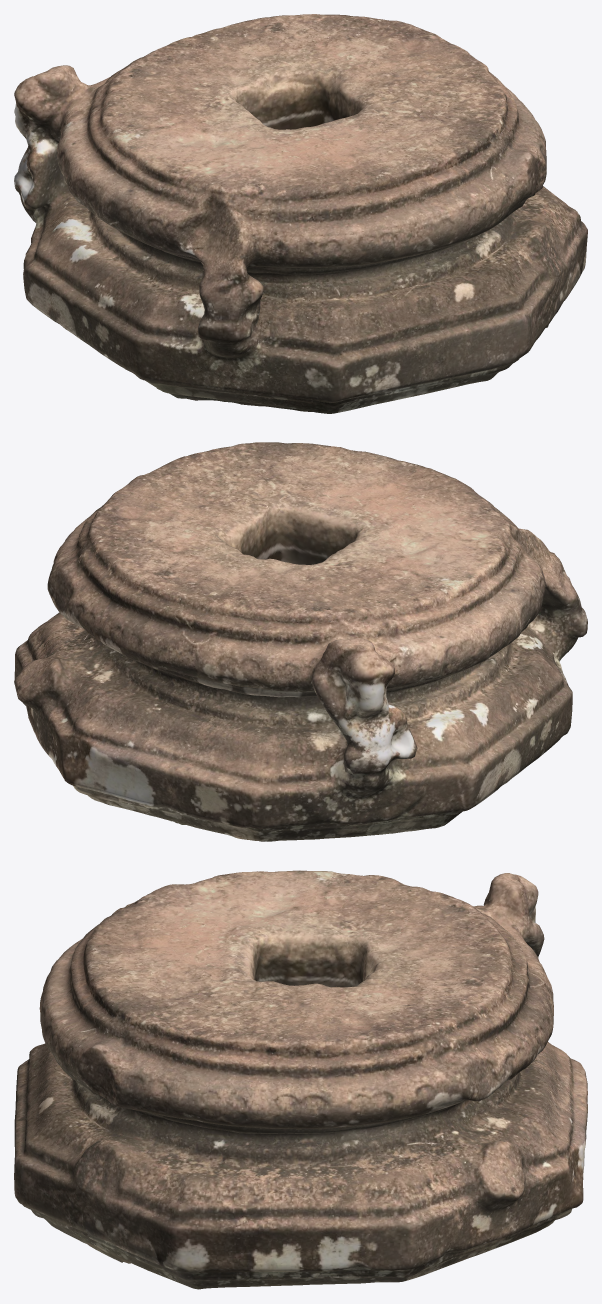
File: 32_MysonSanctuaryB_Detru_final.glb
The picture shows the model from 3 angles, top to bottom: view 1: azimuth 30°, elevation 25°; view 2: azimuth 150°, elevation 25°; view 3: azimuth 270°, elevation 25°; orthographic projection. The views are drawn at different scales.
Size of the model in its own units: 0.6572 by 0.3135 by 0.6567.
1 material, 1 textured.
